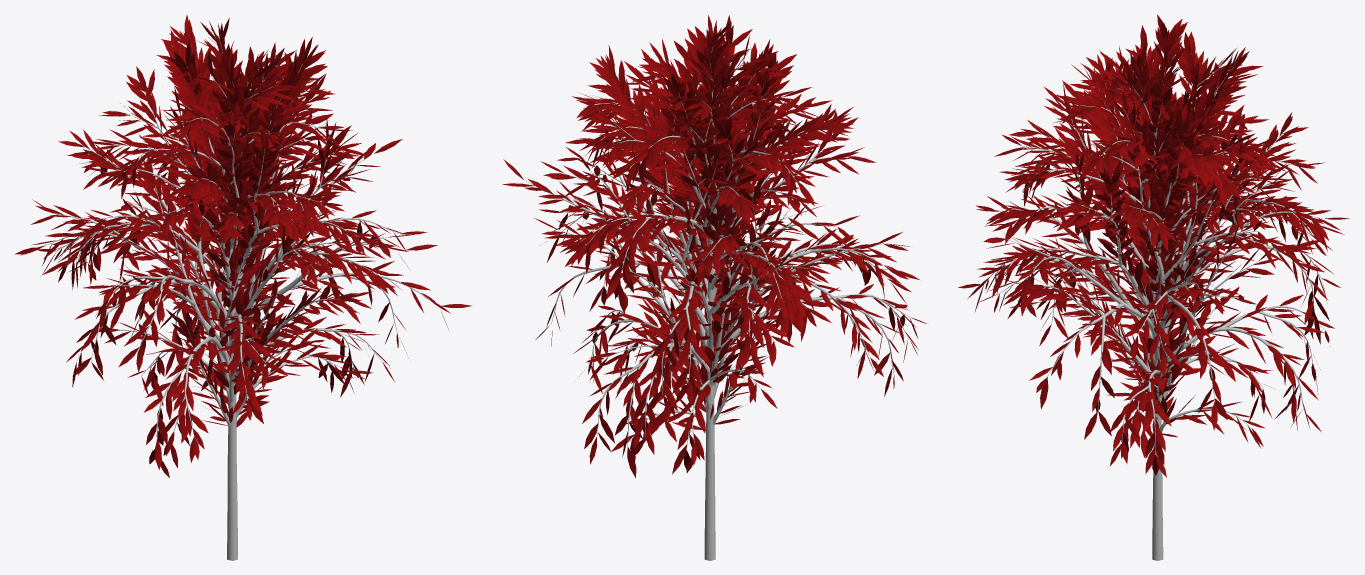
The model's file is boom.fbx.
3 renders of one model, left to right at view 1: azimuth 30°, elevation 25°; view 2: azimuth 150°, elevation 25°; view 3: azimuth 270°, elevation 25°, orthographic.
Parts seen in each view (by area): view 1: leaves, tree; view 2: leaves, tree; view 3: leaves, tree.
Part boxes in pixels (x1,y1,x2,y2): leaves: [14, 15, 471, 477]; tree: [44, 41, 429, 560]; leaves: [502, 15, 926, 477]; tree: [525, 46, 909, 560]; leaves: [958, 14, 1348, 477]; tree: [990, 57, 1324, 560].
Size of the model in its own units: 509 by 708 by 470.
